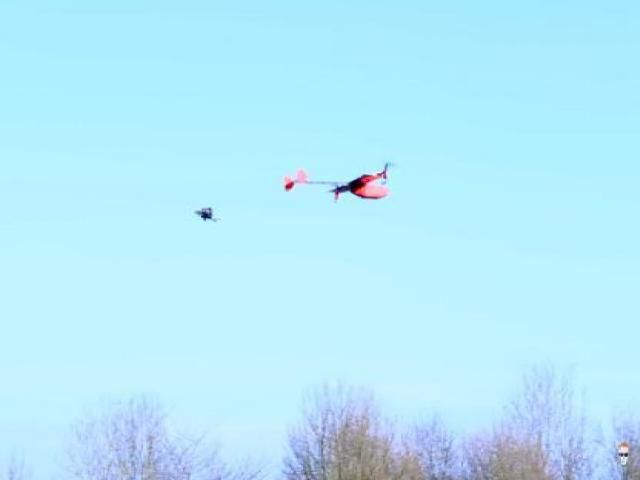uav: (280, 155, 408, 219)
